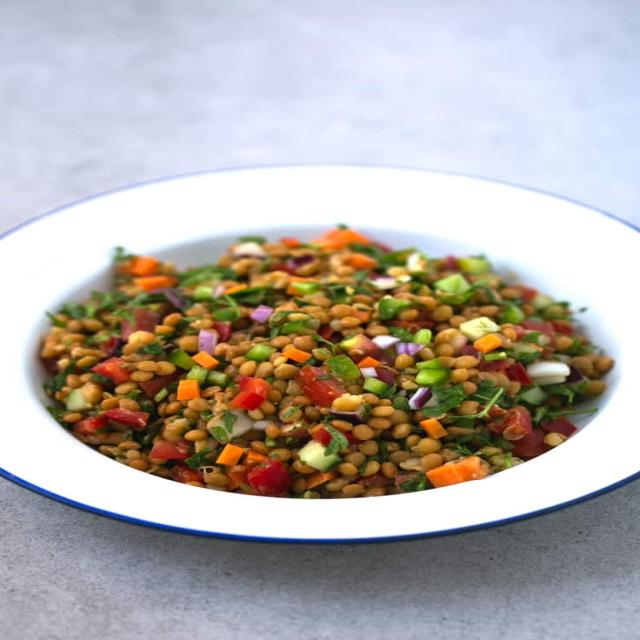garbanzos: (33, 223, 624, 496)
